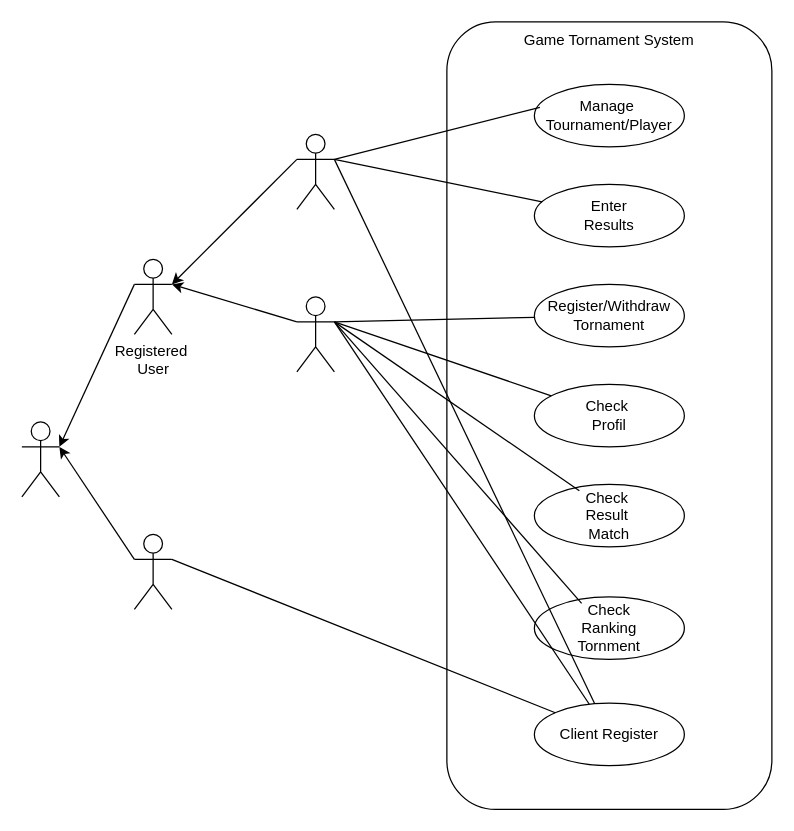
This 794x831 diagram has some shape labels left out. Each missing label, with the box of its shape:
Admin: (296, 133, 334, 209)
New User: (133, 533, 172, 609)
Player: (296, 296, 334, 372)
User: (21, 421, 59, 497)
